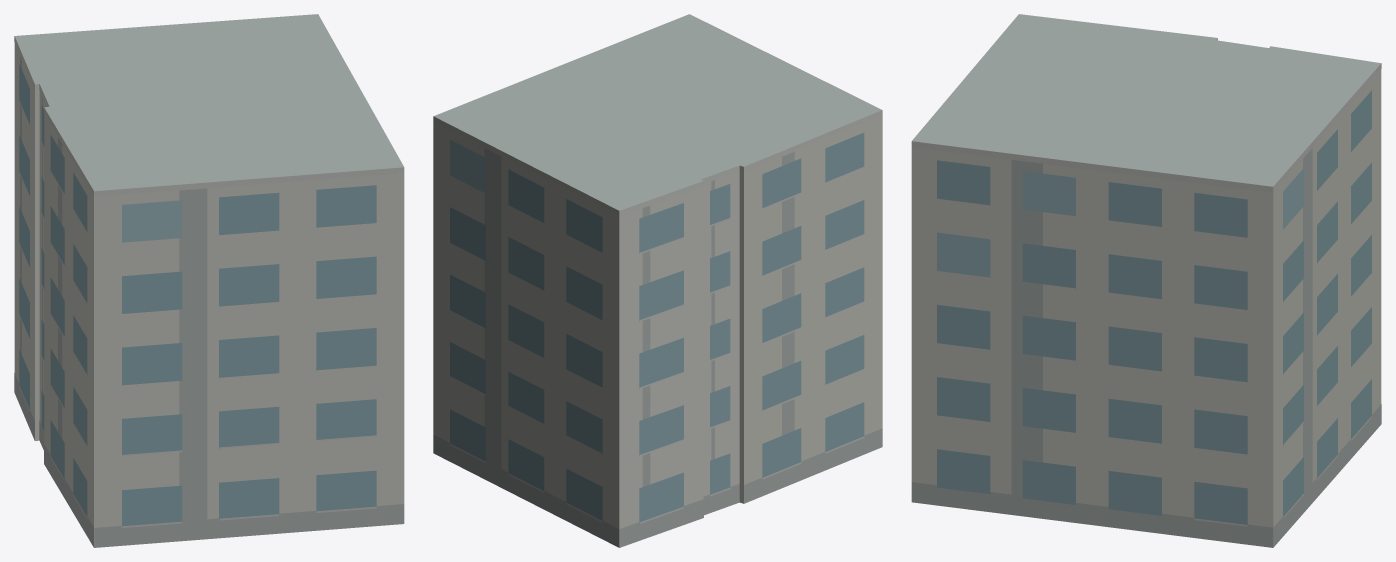
Rendered from survey-upis-32882656.glb.
The picture shows the model from 3 angles, left to right: view 1: azimuth 30°, elevation 25°; view 2: azimuth 150°, elevation 25°; view 3: azimuth 270°, elevation 25°; orthographic projection. The views are drawn at different scales.
Parts seen in each view (by area): view 1: survey-upis-32882656.tmp; view 2: survey-upis-32882656.tmp; view 3: survey-upis-32882656.tmp.
Boxes of the visible parts, left/top/right/bottom form: survey-upis-32882656.tmp: left=14, top=14, right=404, bottom=547; survey-upis-32882656.tmp: left=433, top=14, right=882, bottom=547; survey-upis-32882656.tmp: left=911, top=14, right=1381, bottom=547.
Size of the model in its own units: 15.09 by 14.7 by 17.34.
